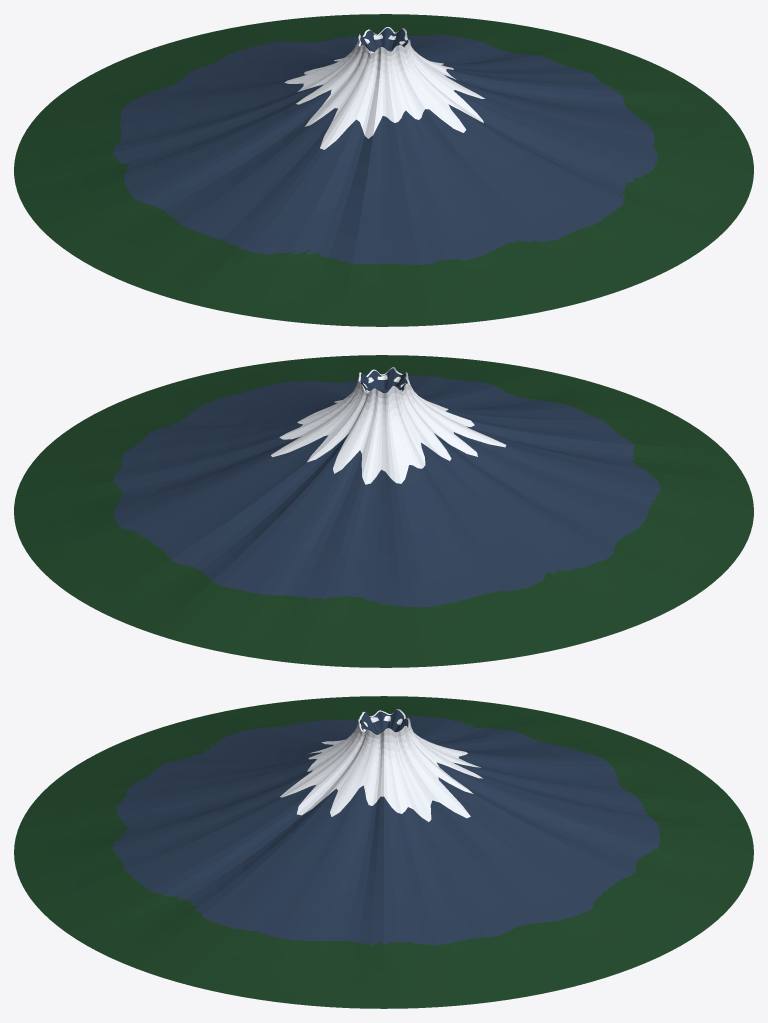
Rendered from mount_fuji.glb.
3 views of the same model, one above another, from view 1: azimuth 30°, elevation 25°; view 2: azimuth 150°, elevation 25°; view 3: azimuth 270°, elevation 25° (orthographic).
Visible parts, largest first — view 1: Fuji_Volcanic_Slope, Fuji_Forest_Base, Fuji_Snow_Cap; view 2: Fuji_Forest_Base, Fuji_Volcanic_Slope, Fuji_Snow_Cap; view 3: Fuji_Volcanic_Slope, Fuji_Forest_Base, Fuji_Snow_Cap.
Boxes of the visible parts, x1=… form: Fuji_Volcanic_Slope: x1=112, y1=28, x2=657, y2=264; Fuji_Forest_Base: x1=14, y1=14, x2=753, y2=326; Fuji_Snow_Cap: x1=284, y1=27, x2=485, y2=149; Fuji_Forest_Base: x1=14, y1=355, x2=753, y2=667; Fuji_Volcanic_Slope: x1=113, y1=368, x2=660, y2=607; Fuji_Snow_Cap: x1=271, y1=367, x2=506, y2=484; Fuji_Volcanic_Slope: x1=112, y1=710, x2=660, y2=945; Fuji_Forest_Base: x1=14, y1=696, x2=753, y2=1008; Fuji_Snow_Cap: x1=280, y1=709, x2=482, y2=821.
Bounding box in the file's own units: 968 × 195 × 968.
